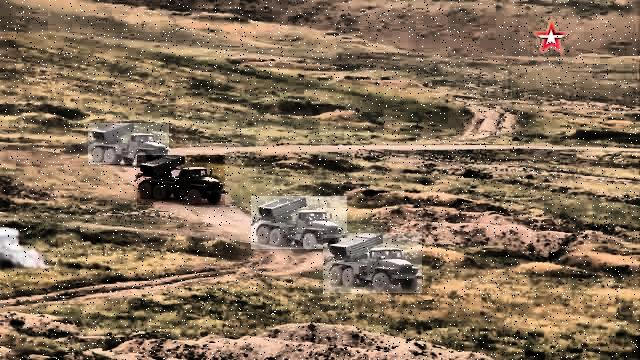military-vehicle: (324, 234, 423, 294), (252, 196, 348, 249), (138, 156, 226, 206), (88, 124, 169, 165)
